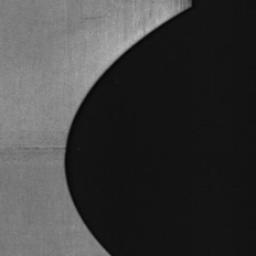Crescent gap: (64, 6, 192, 256)
